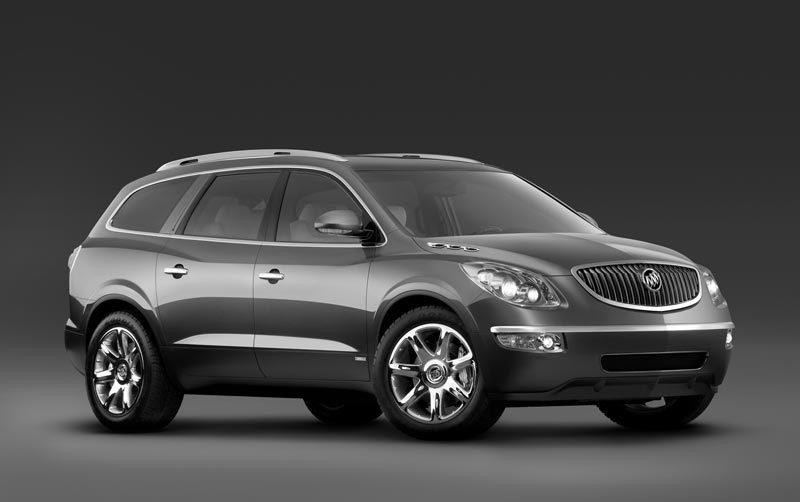car: (52, 133, 745, 452)
